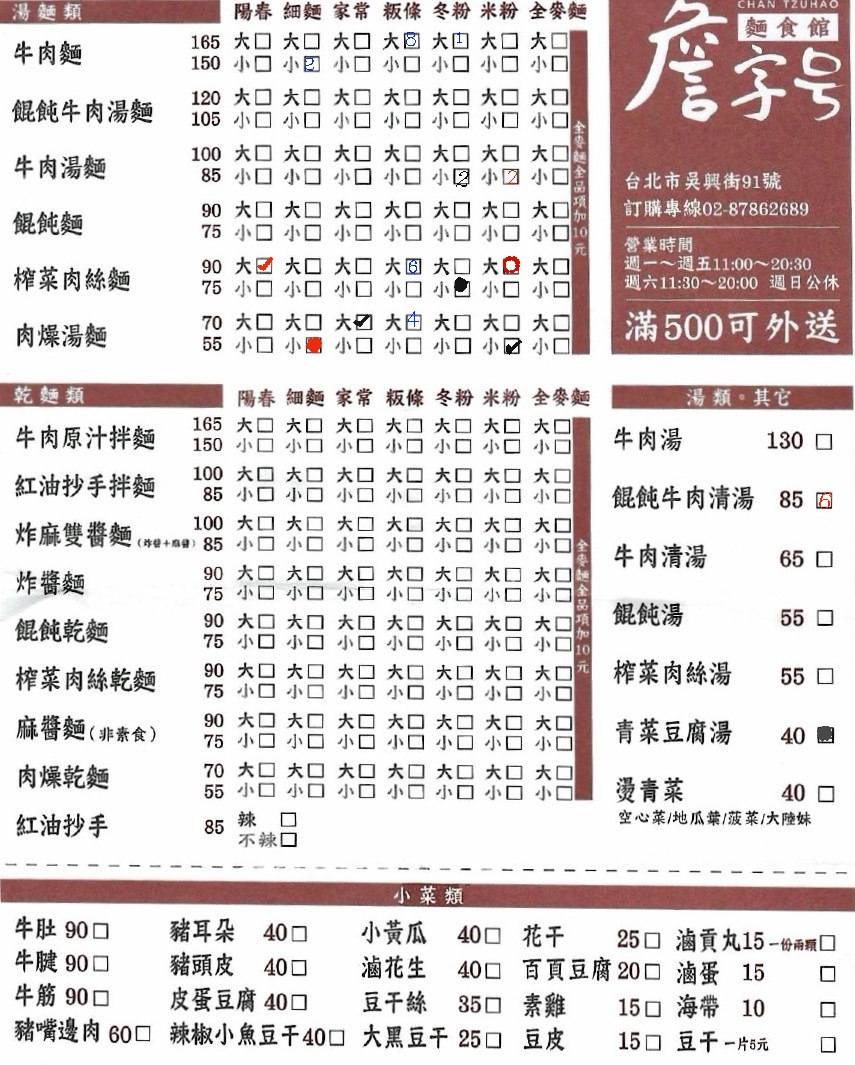marked_circle: (816, 725, 834, 742), (305, 336, 323, 353), (453, 278, 471, 295)
marked_hollow: (502, 257, 520, 274)
marked_number_1: (452, 33, 467, 48)
marked_number_2: (502, 166, 520, 183), (453, 166, 471, 183), (303, 55, 319, 70)
marked_number_4: (403, 314, 421, 331)
marked_number_6: (815, 490, 833, 507), (404, 257, 422, 274)
marked_number_8: (403, 32, 418, 48)
marked_tick: (354, 312, 372, 329), (255, 256, 273, 273), (503, 338, 521, 355)
